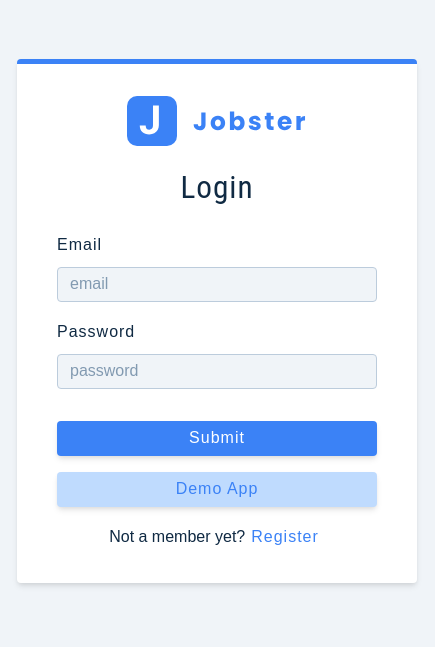
Test case: toggles between login and register
The width and height of the screenshot is (435, 647).
Click the button "Register" at (285,537), box x1=245 y1=527 x2=325 y2=547
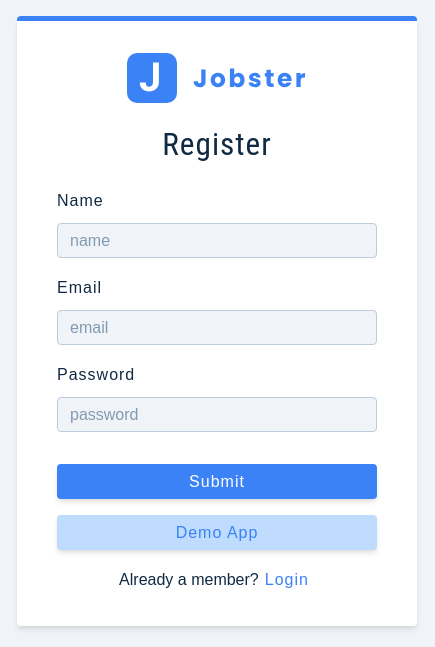
Expected: the text "name" is shown, x1=57 y1=192 x2=104 y2=209
Click the button "Register" at (287,581), box x1=259 y1=570 x2=315 y2=591
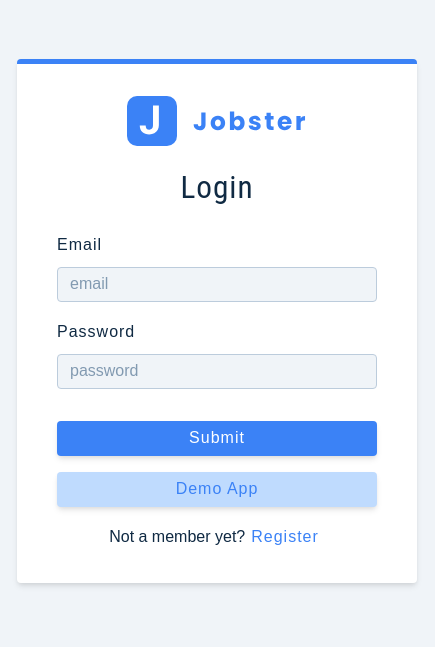
Expected: the text "name" is gone
